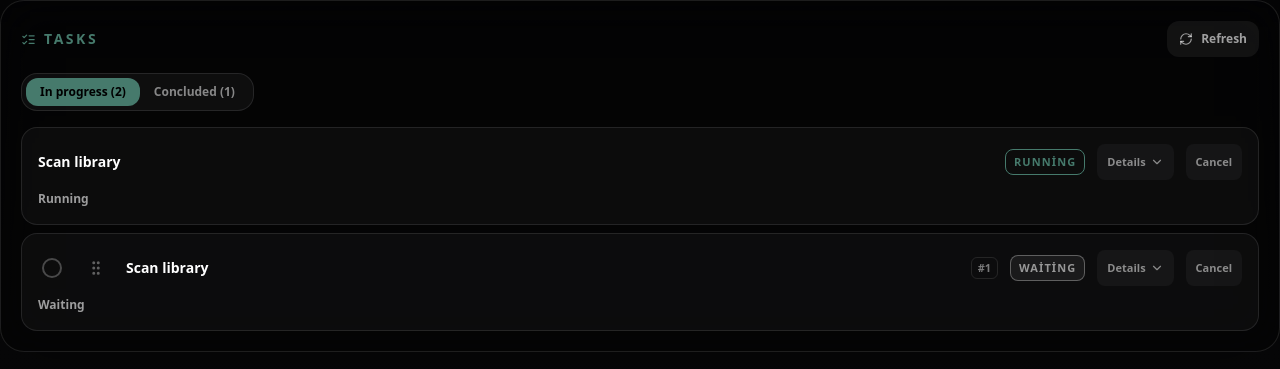
Scenario: what the viewer shows › separates what is happening from what happened
The width and height of the screenshot is (1280, 369).
Check: the number of list items is 2, box [21,127,1259,225]; [21,233,1259,331]
Click the tab "Concluded (1)" at (194, 92), box [140,78,249,106]
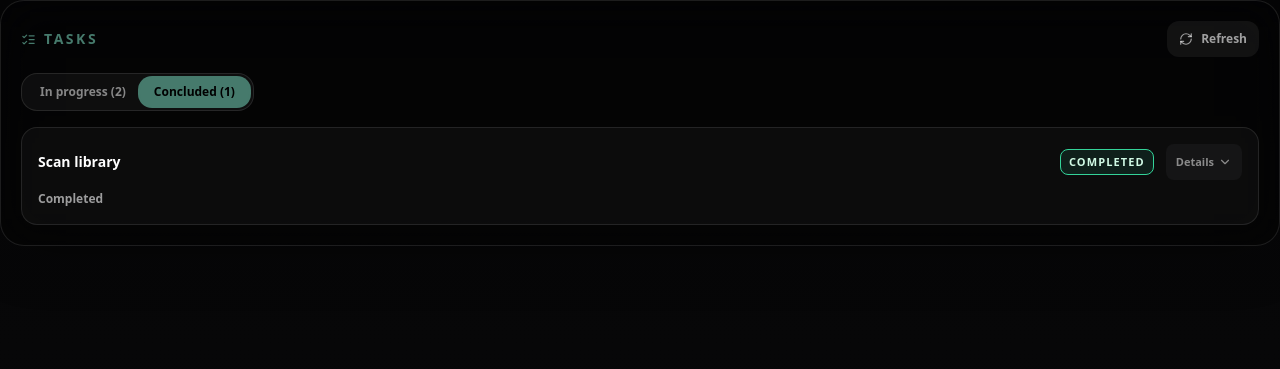
Check: the number of list items is 1, box [21,127,1259,225]
